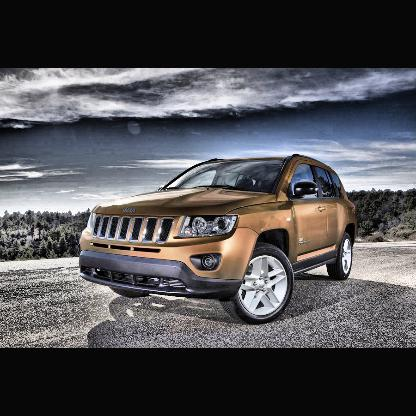Jeep Compass SUV 2012: (79, 154, 360, 325)
